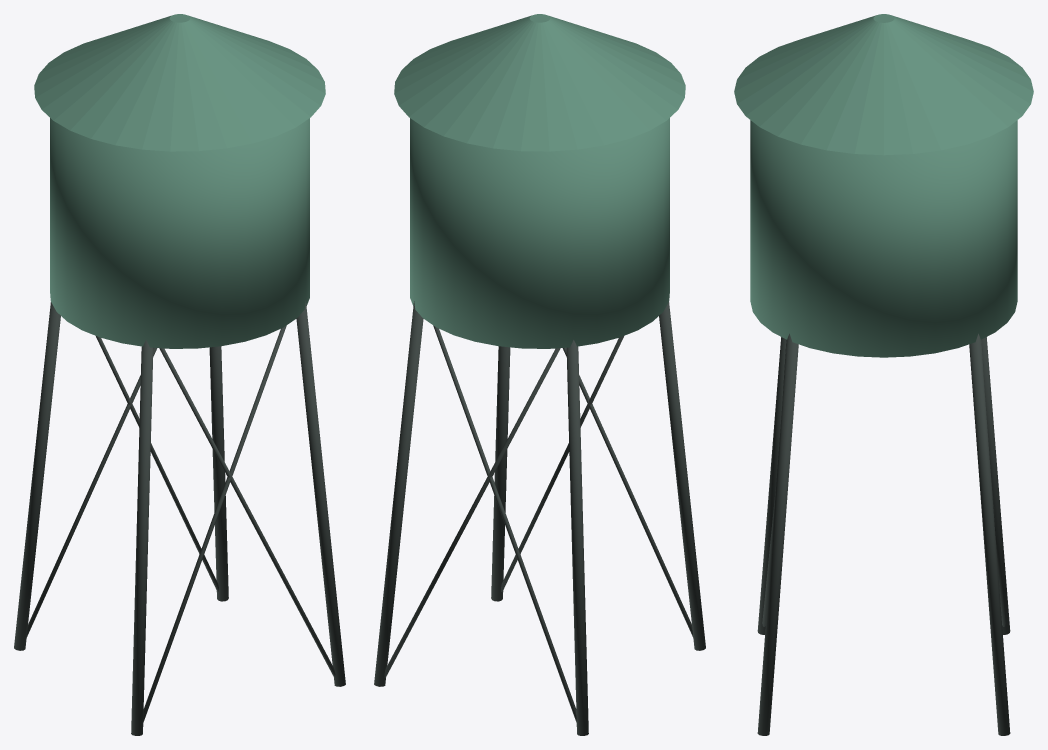
Rendered from DS_Cut_Water_Tower_01.glb.
3 renders of one model, left to right at view 1: azimuth 30°, elevation 25°; view 2: azimuth 150°, elevation 25°; view 3: azimuth 270°, elevation 25°, orthographic. The views are drawn at different scales.
Visible parts, largest first — view 1: Tank, Cone, Tower leg, Tower leg.002, Tower leg.001, Tower leg.003, Tower diagonal, Tower diagonal.002, Tower diagonal.001, Tower diagonal.003; view 2: Tank, Cone, Tower leg.001, Tower leg.003, Tower leg, Tower leg.002, Tower diagonal.001, Tower diagonal.003, Tower diagonal, Tower diagonal.002; view 3: Tank, Cone, Tower leg.002, Tower leg.003, Tower leg, Tower leg.001.
Part boxes in pixels (left/top/right/bottom): Tank: left=50, top=118, right=309, bottom=348; Cone: left=34, top=14, right=325, bottom=151; Tower leg: left=131, top=340, right=153, bottom=735; Tower leg.002: left=296, top=301, right=345, bottom=686; Tower leg.001: left=14, top=302, right=60, bottom=650; Tower leg.003: left=209, top=346, right=228, bottom=601; Tower diagonal: left=143, top=325, right=286, bottom=722; Tower diagonal.002: left=159, top=348, right=335, bottom=677; Tower diagonal.001: left=26, top=347, right=157, bottom=637; Tower diagonal.003: left=96, top=336, right=218, bottom=592; Tank: left=410, top=118, right=669, bottom=348; Cone: left=394, top=14, right=685, bottom=151; Tower leg.001: left=566, top=340, right=588, bottom=735; Tower leg.003: left=374, top=301, right=423, bottom=686; Tower leg: left=659, top=302, right=705, bottom=650; Tower leg.002: left=491, top=346, right=510, bottom=601; Tower diagonal.001: left=433, top=325, right=576, bottom=722; Tower diagonal.003: left=384, top=348, right=560, bottom=677; Tower diagonal: left=562, top=347, right=693, bottom=637; Tower diagonal.002: left=501, top=336, right=623, bottom=592; Tank: left=750, top=120, right=1017, bottom=357; Cone: left=734, top=14, right=1033, bottom=155; Tower leg.002: left=757, top=333, right=798, bottom=735; Tower leg.003: left=969, top=333, right=1010, bottom=735; Tower leg: left=757, top=337, right=786, bottom=634; Tower leg.001: left=981, top=337, right=1010, bottom=634.
Bounding box in the file's own units: 3.7 × 9.06 × 3.7.
